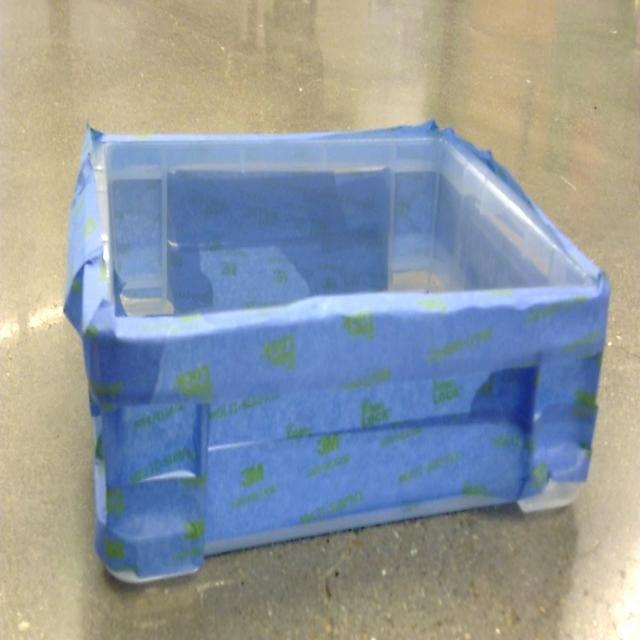bucket: (62, 122, 612, 589)
